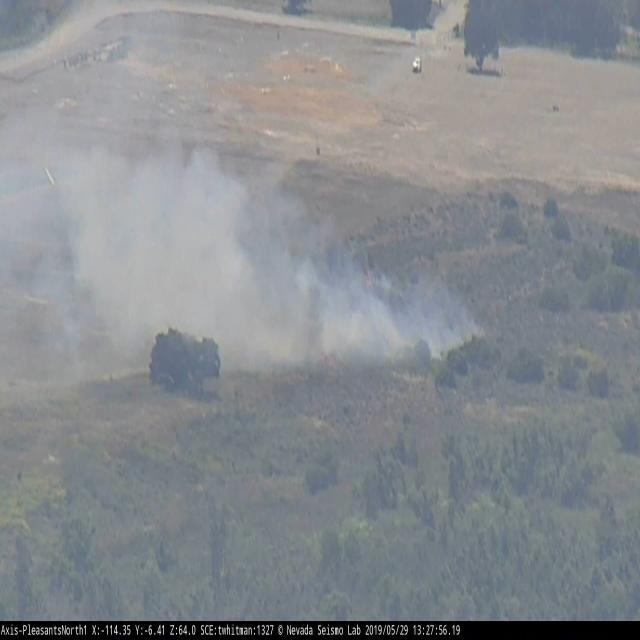smoke: (1, 92, 478, 371)
